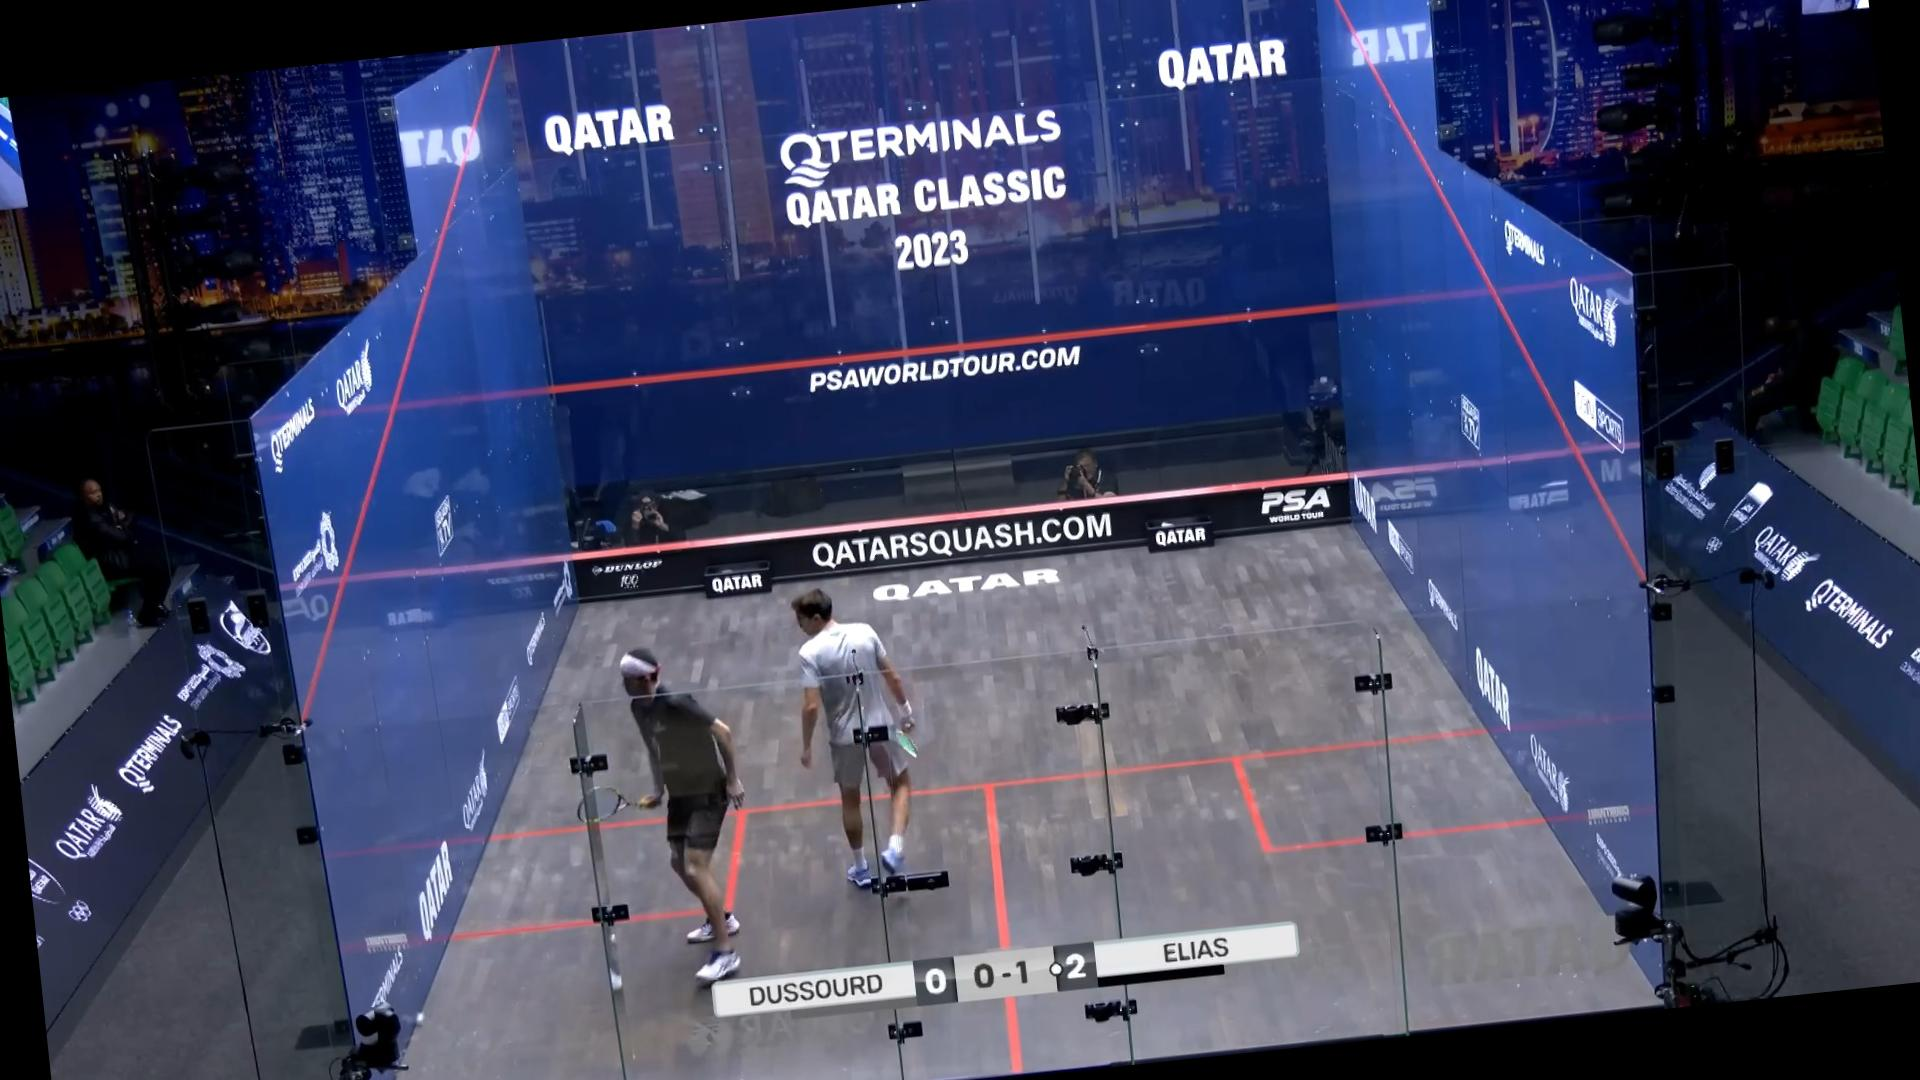Racket: (570, 777, 653, 836)
